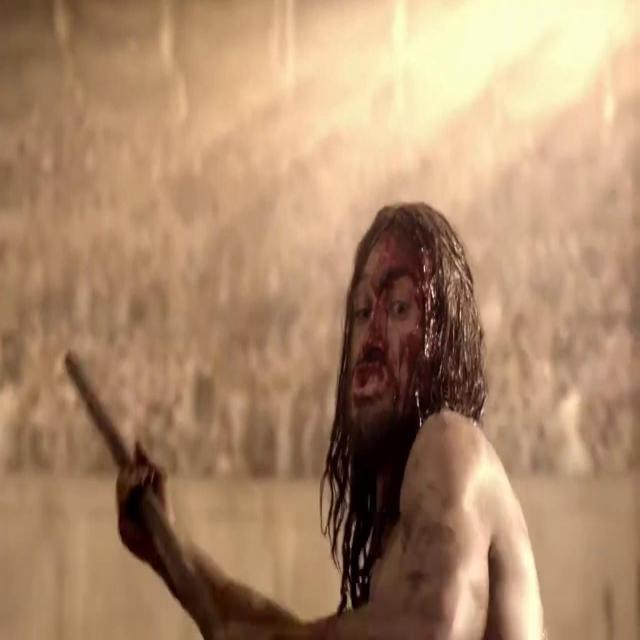flood: (330, 240, 440, 430)
